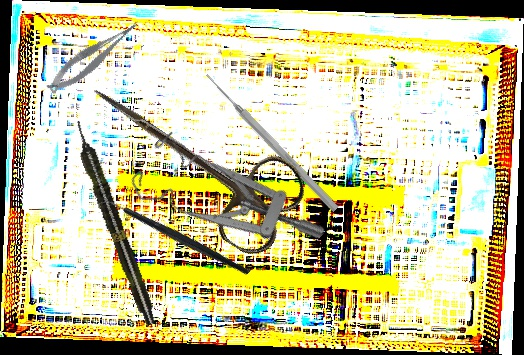Chopper: (94, 157, 252, 319)
Handpiece: (68, 118, 161, 328)
Iris Scissors: (64, 52, 315, 264)
Micro Scissor: (39, 17, 149, 98)
Pusher: (202, 70, 341, 214)
Speculum: (119, 101, 329, 308)
